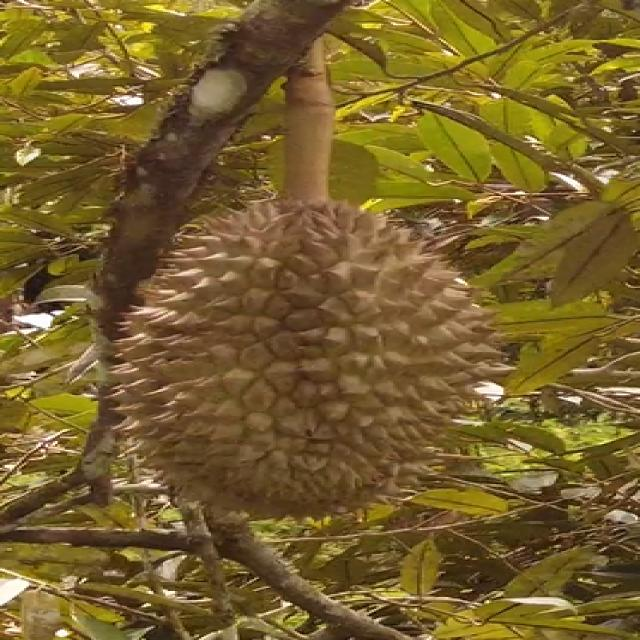mature: (115, 201, 500, 516)
